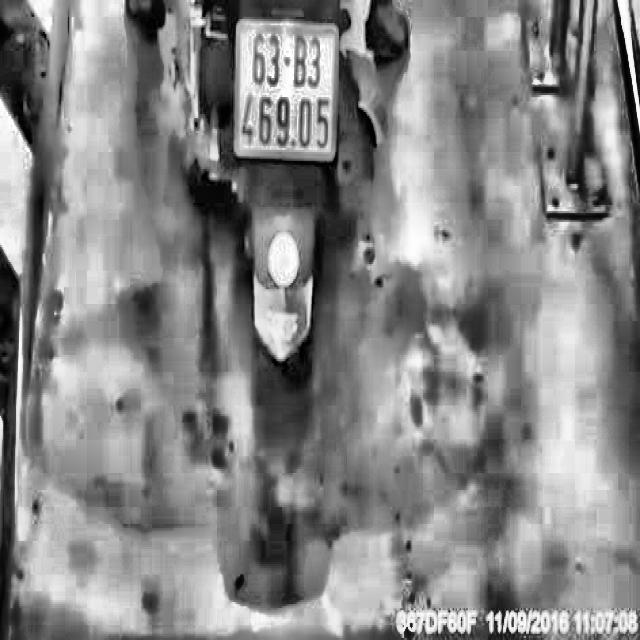plate: (232, 10, 343, 167)
